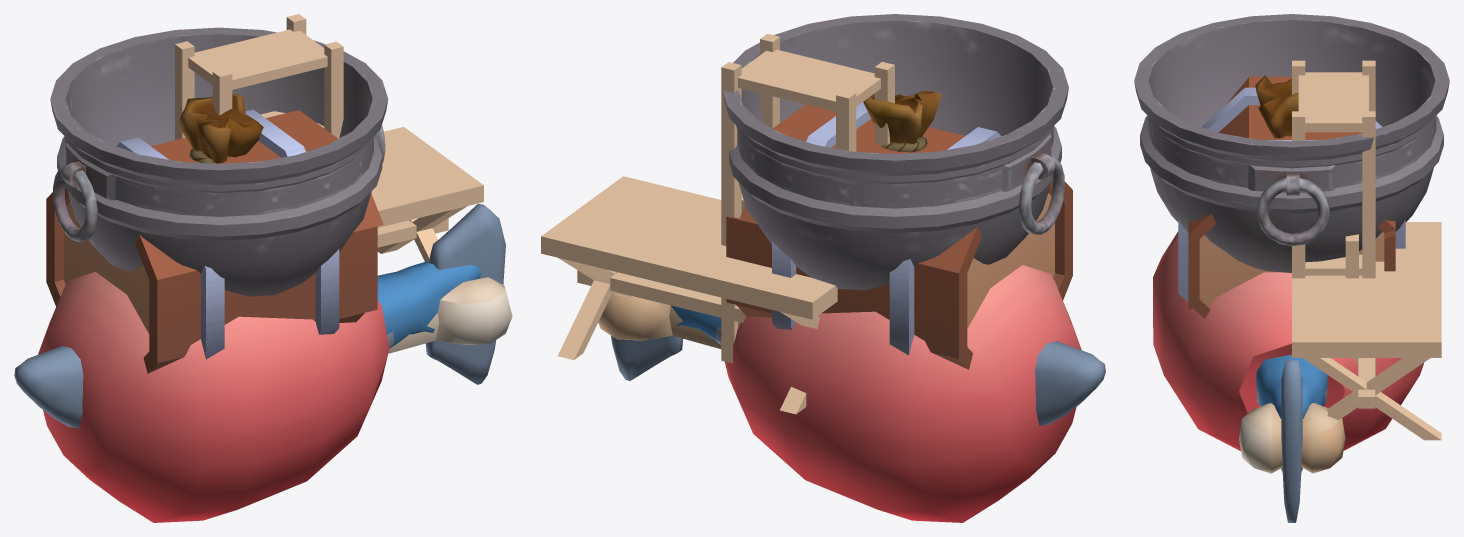
File: dining-kit-v54.glb
3 renders of one model, left to right at view 1: azimuth 30°, elevation 25°; view 2: azimuth 150°, elevation 25°; view 3: azimuth 270°, elevation 25°, orthographic. The views are drawn at different scales.
Parts seen in each view (by area): view 1: food_ingredient_ham, Cauldron, barrel, Prop_Fish_Mackerel, bookcaseOpen(Clone), tableCross(Clone), Bag; view 2: Cauldron, food_ingredient_ham, tableCross(Clone), barrel, bookcaseOpen(Clone), Prop_Fish_Mackerel, Bag; view 3: Cauldron, food_ingredient_ham, tableCross(Clone), bookcaseOpen(Clone), barrel, Prop_Fish_Mackerel, Bag, bench(Clone).
Part boxes in pixels (x1,y1,x2,y2): food_ingredient_ham: [38, 272, 512, 522]; Cauldron: [50, 27, 388, 296]; barrel: [46, 109, 383, 373]; Prop_Fish_Mackerel: [14, 204, 505, 428]; bookcaseOpen(Clone): [175, 14, 343, 140]; tableCross(Clone): [371, 127, 483, 261]; Bag: [179, 94, 263, 163]; Cauldron: [722, 14, 1068, 290]; food_ingredient_ham: [598, 265, 1081, 522]; tableCross(Clone): [541, 176, 837, 414]; barrel: [726, 102, 1072, 369]; bookcaseOpen(Clone): [721, 33, 894, 363]; Prop_Fish_Mackerel: [611, 305, 1105, 425]; Bag: [863, 91, 941, 152]; Cauldron: [1134, 14, 1449, 272]; food_ingredient_ham: [1153, 231, 1423, 473]; tableCross(Clone): [1292, 222, 1441, 440]; bookcaseOpen(Clone): [1292, 60, 1375, 376]; barrel: [1178, 76, 1405, 318]; Prop_Fish_Mackerel: [1256, 354, 1327, 522]; Bag: [1255, 75, 1307, 138]; bench(Clone): [1345, 234, 1358, 364].
Size of the model in its own units: 1.56 by 1.29 by 0.944.
Materials: 9 (8 with a texture image).
